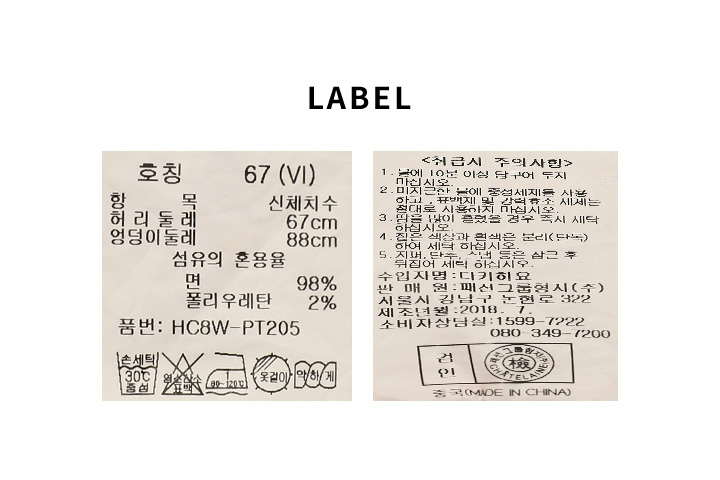KR_gentle_wring: (293, 356, 338, 393)
KR_hand_wash_30_neutral: (114, 349, 160, 399)
KR_hang_dry_in_shade: (252, 352, 292, 395)
KR_iron_low_temp_with_cloth: (206, 349, 247, 396)
KR_no_bleach: (161, 350, 205, 398)
